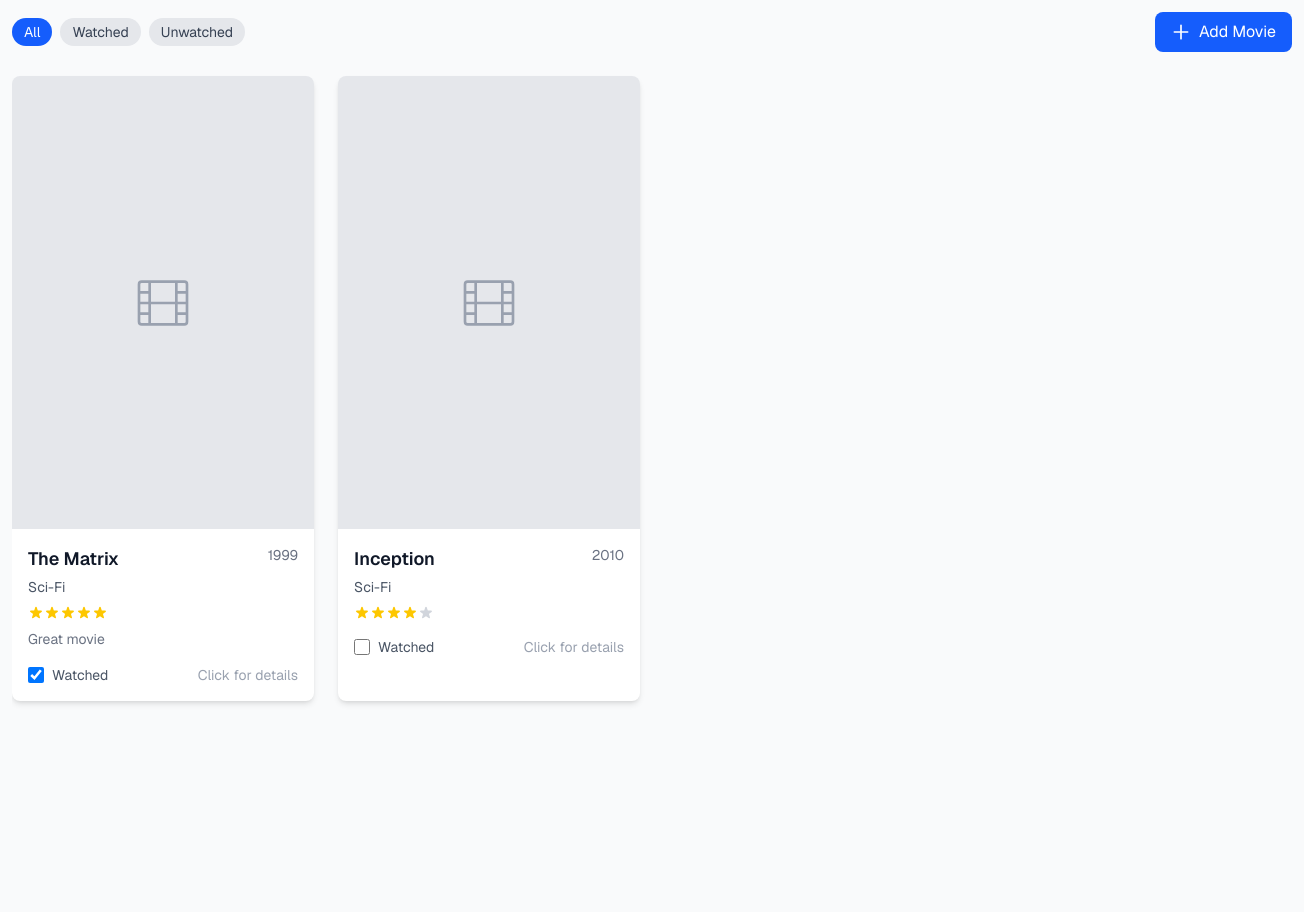
Test: MovieList › filters movies by watched status
This screenshot has width=1304, height=912.
Expected: the heading "The Matrix" is shown, [28, 545, 119, 573]
Note: Click "Watched" filter button
Step 1. Click the button "Watched" → x=101, y=32, box [60, 18, 141, 46]
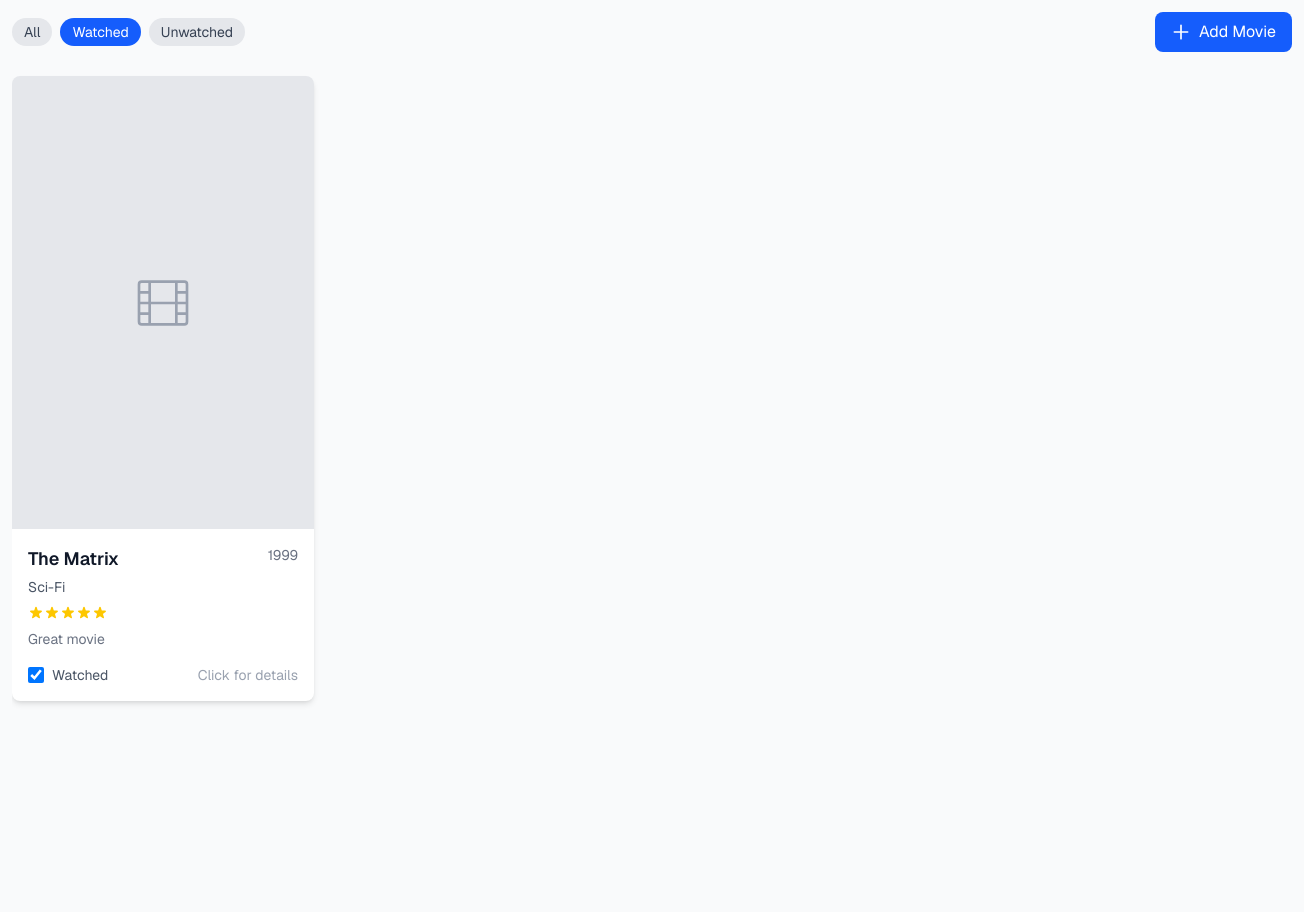
Expected: the heading "The Matrix" is shown, [28, 545, 119, 573]
Expected: the heading "Inception" is gone
